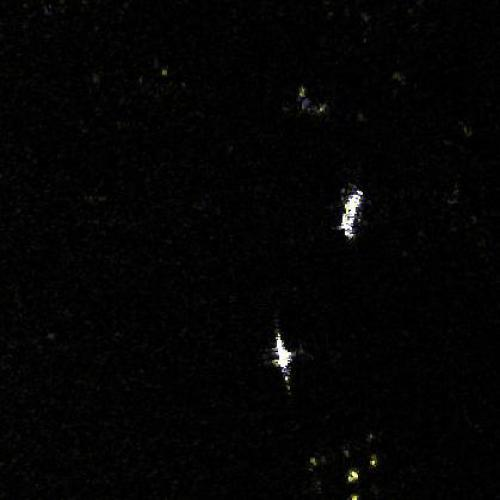ship: (338, 188, 366, 241), (273, 330, 292, 383)
